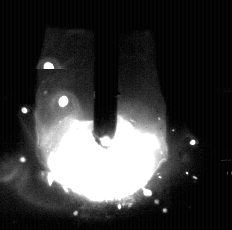arame: (95, 0, 118, 140)
poca: (35, 0, 168, 230)
